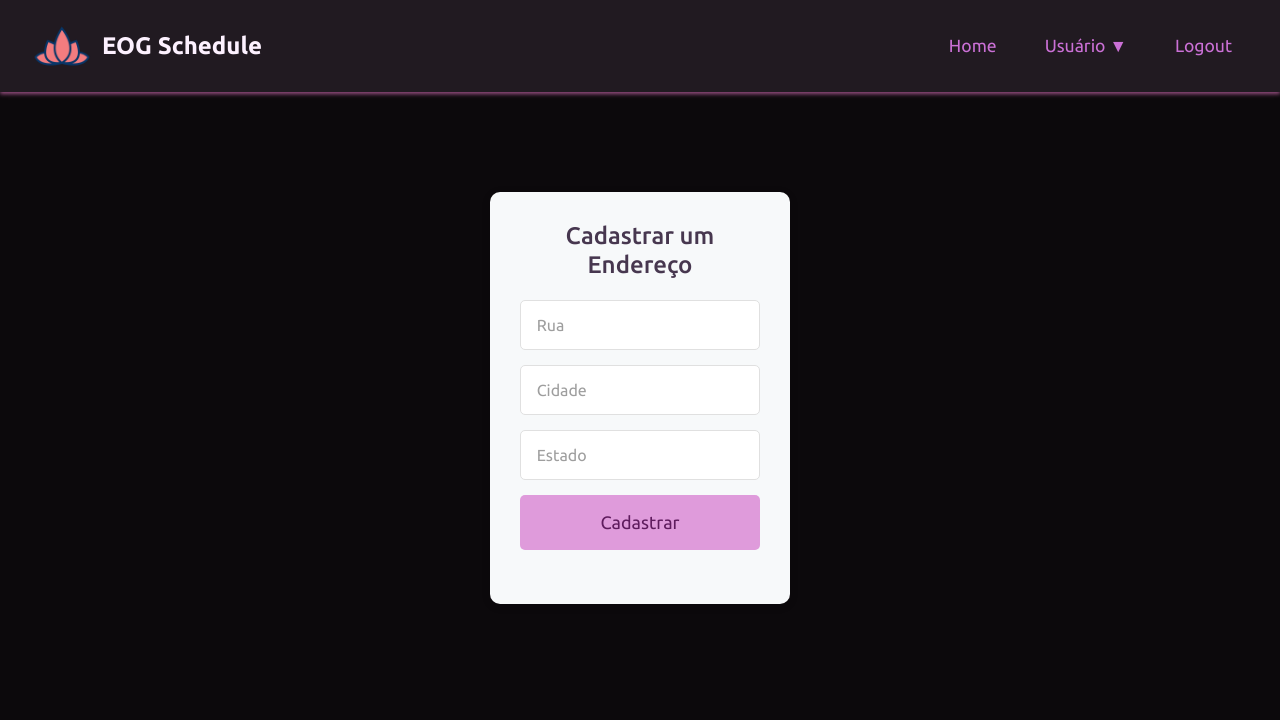
Test: Testes Frontend - EOG SCHEDULE › Deve cadastrar um endereço com sucesso
The image size is (1280, 720).
Type "Rua das Flores, 123" into the field named "rua" at coordinates (640, 325), box [520,300,760,350]
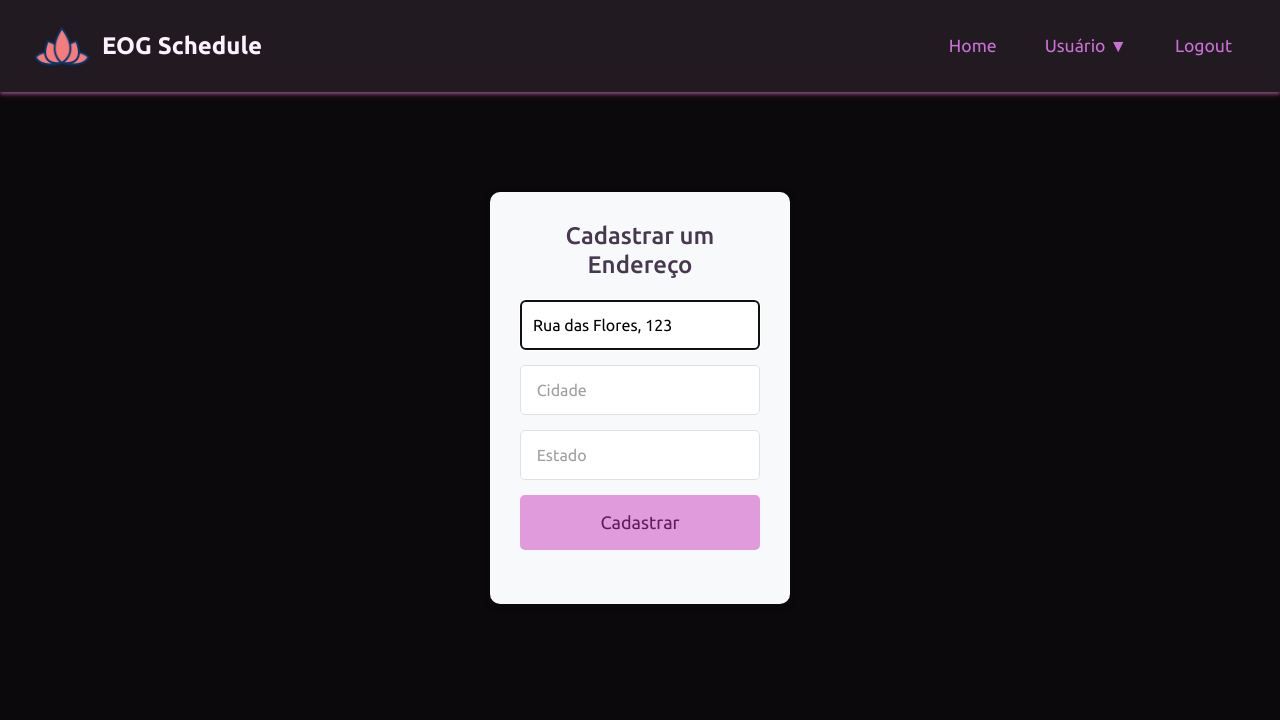
Type "Salvador" into the field named "cidade" at coordinates (640, 390), box [520,365,760,415]
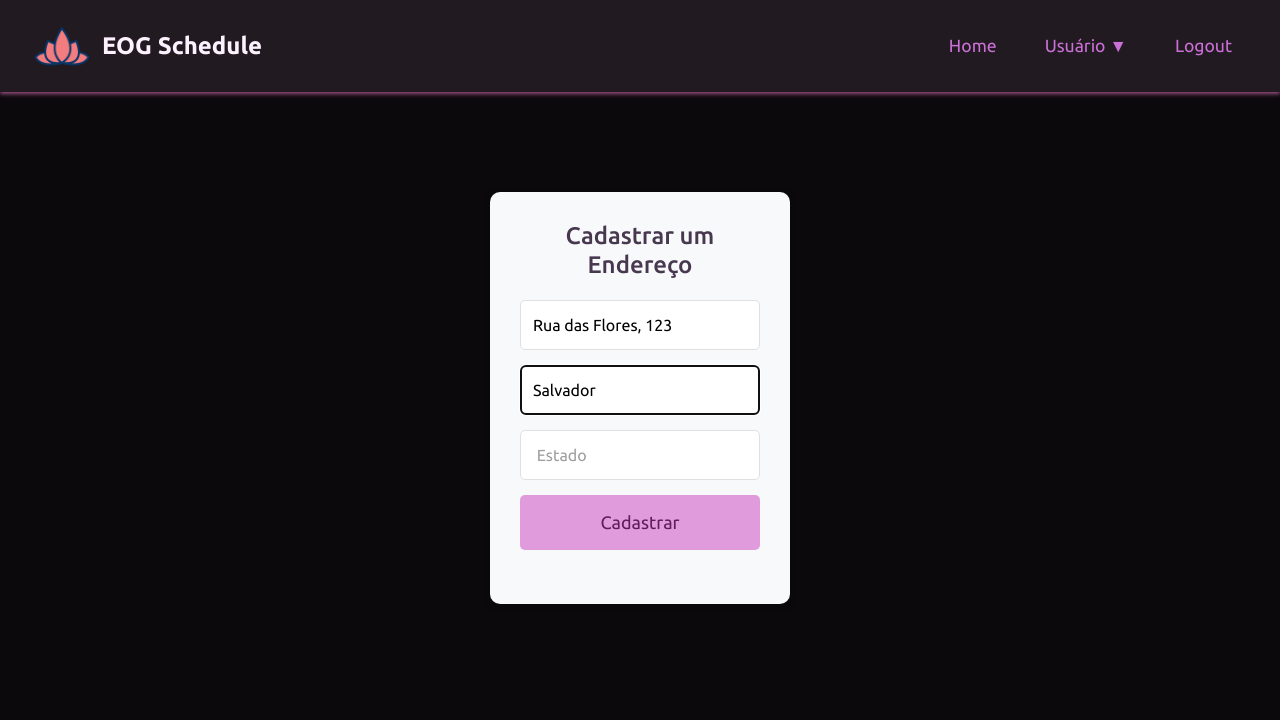
Type "BA" into the field named "estado" at coordinates (640, 455), box [520,430,760,480]
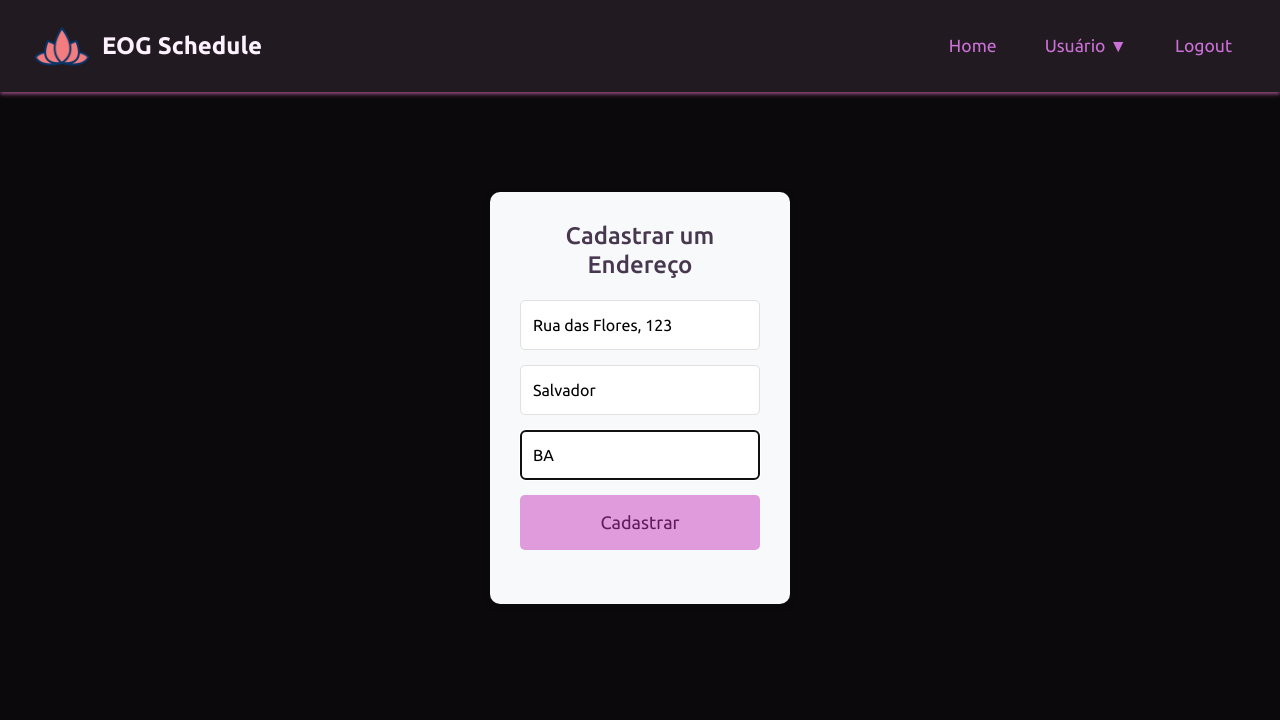
Click the submit button at coordinates (640, 523), box [520,495,760,550]
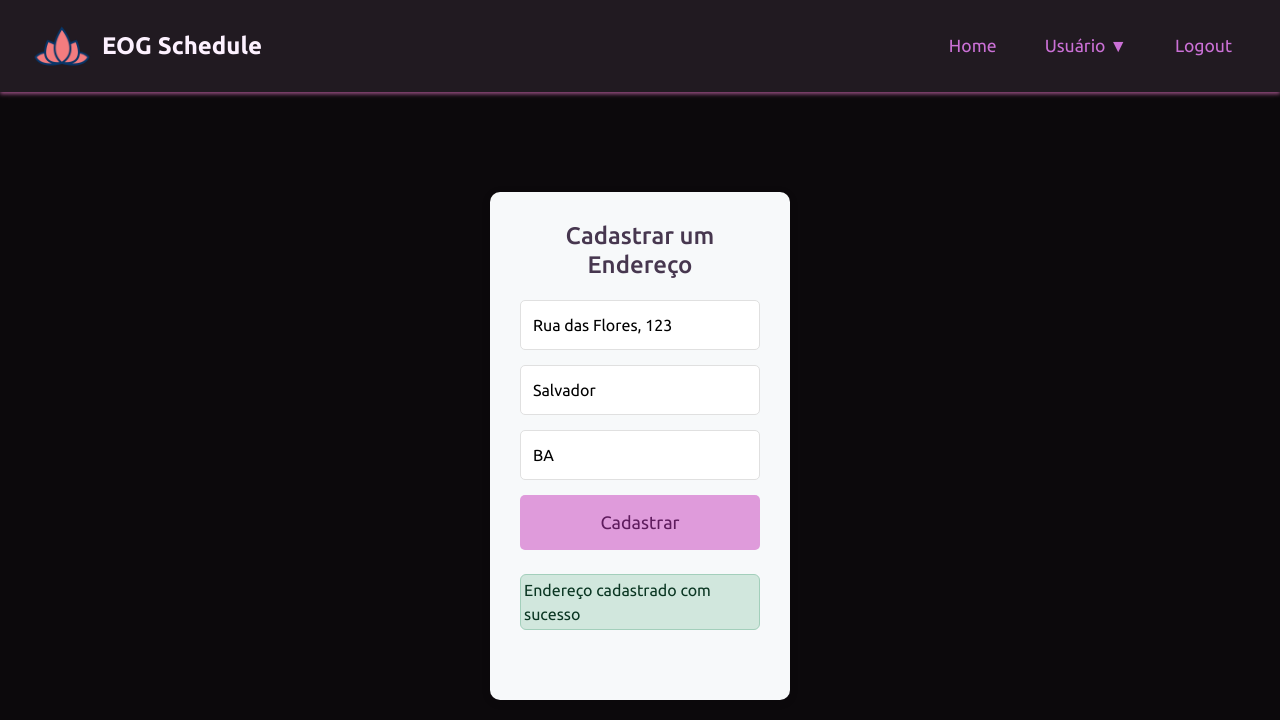
Result: the text "Endereço cadastrado com sucesso" is shown at [520,574,760,630]
